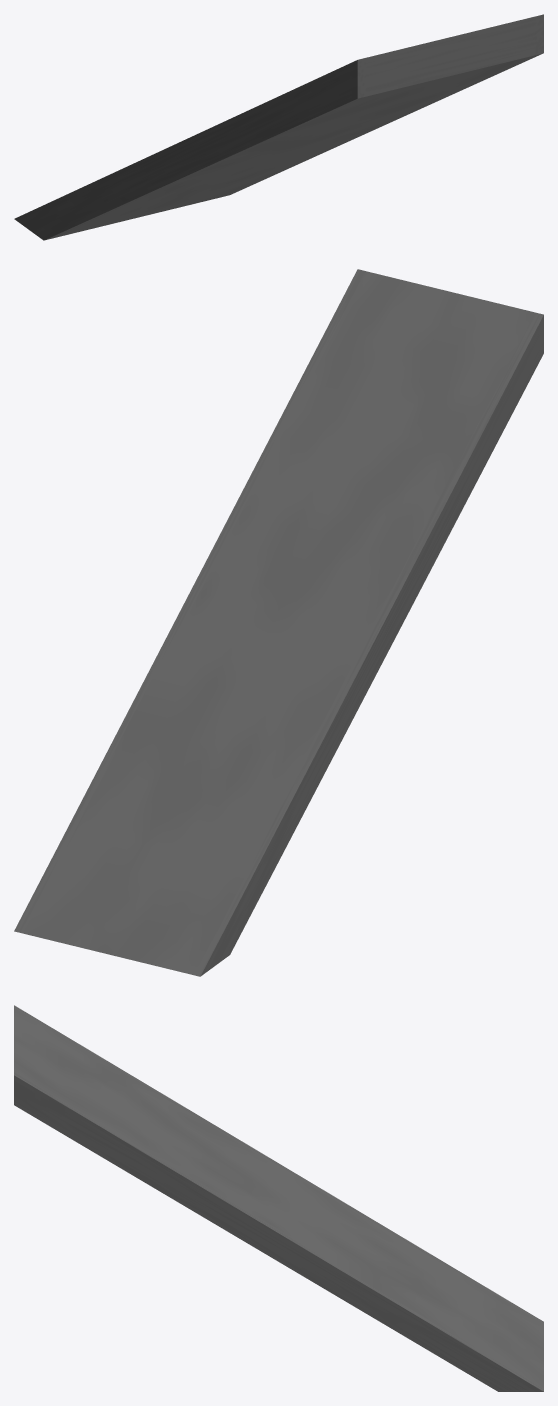
Rendered from StairsFloorCollider.fbx.
3 views of the same model, one above another, from view 1: azimuth 30°, elevation 25°; view 2: azimuth 150°, elevation 25°; view 3: azimuth 270°, elevation 25° (orthographic). The views are drawn at different scales.
Visible parts, largest first — view 1: Cube.011; view 2: Cube.011; view 3: Cube.011.
Part boxes in pixels (x1,y1,x2,y2): Cube.011: (14,14,543,240); Cube.011: (14,269,543,976); Cube.011: (14,1005,543,1391).
Bounding box in the file's own units: 267 × 563 × 853.
